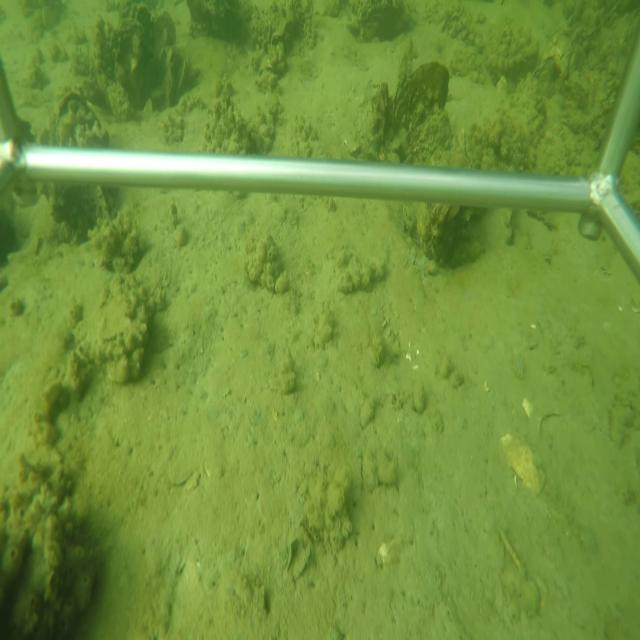Oyster-Closed: (175, 57, 190, 100), (163, 64, 176, 104)
